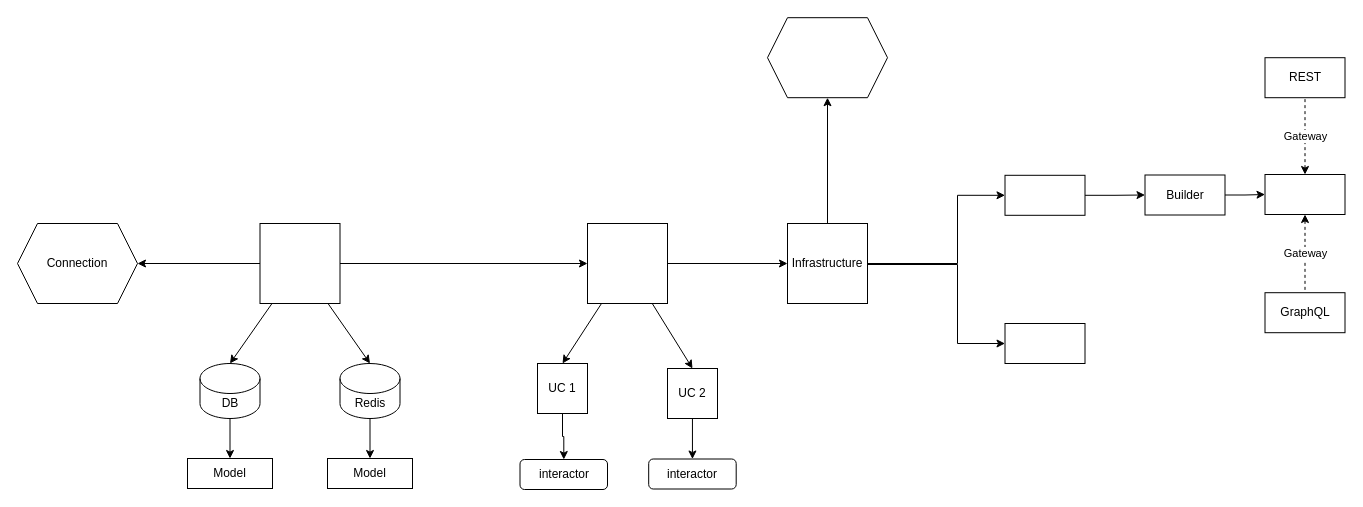
Some shapes in this 1363 by 507 pixel diagram are drawn without their labels. Each missing label, with the box of its shape:
Container: (766, 17, 888, 98)
GRPC: (1264, 174, 1345, 214)
Proto: (1004, 322, 1085, 364)
Repository: (259, 222, 340, 304)
Server: (1004, 174, 1085, 215)
Usecase: (586, 222, 668, 304)
